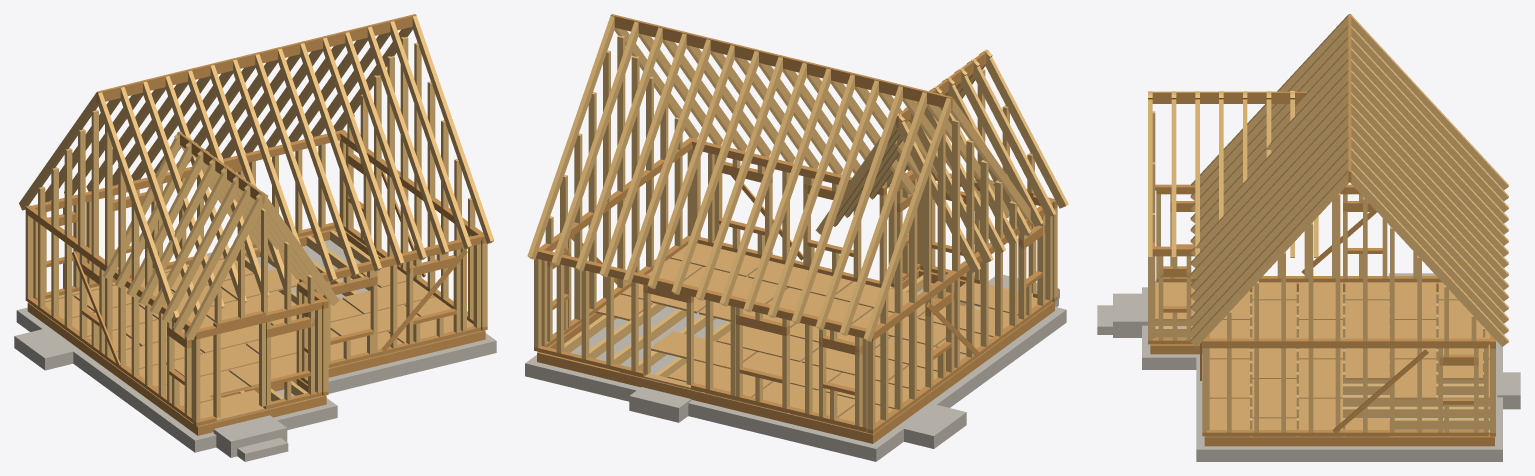
File: base-08-framing.glb
3 renders of one model, left to right at view 1: azimuth 30°, elevation 25°; view 2: azimuth 150°, elevation 25°; view 3: azimuth 270°, elevation 25°, orthographic. The views are drawn at different scales.
Visible parts, largest first — view 1: base_house_8_framing; view 2: base_house_8_framing; view 3: base_house_8_framing.
Part boxes in pixels (x1,y1,x2,y2): base_house_8_framing: (14, 14, 496, 461); base_house_8_framing: (525, 14, 1068, 461); base_house_8_framing: (1097, 14, 1520, 461).
Size of the model in its own units: 10.75 by 8.19 by 10.9.
